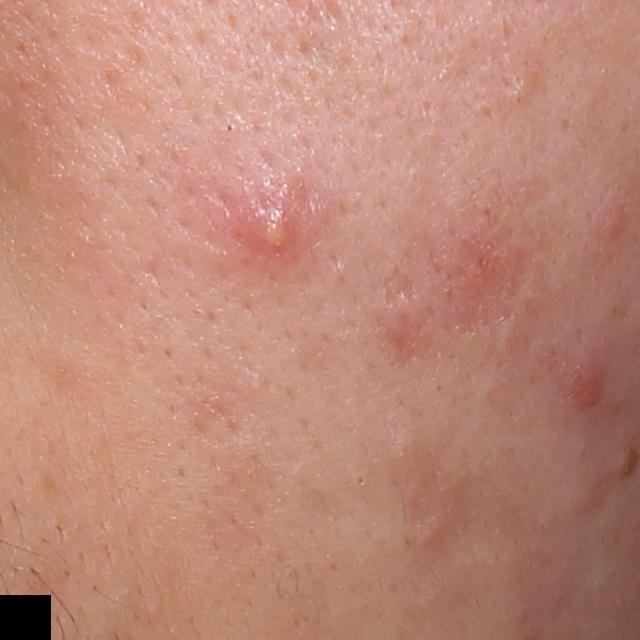atrophic_scar: (385, 267, 417, 307)
comedo: (385, 428, 425, 462), (505, 71, 533, 105)
papule: (552, 345, 604, 426), (600, 202, 630, 245)
pustule: (249, 194, 305, 260)
